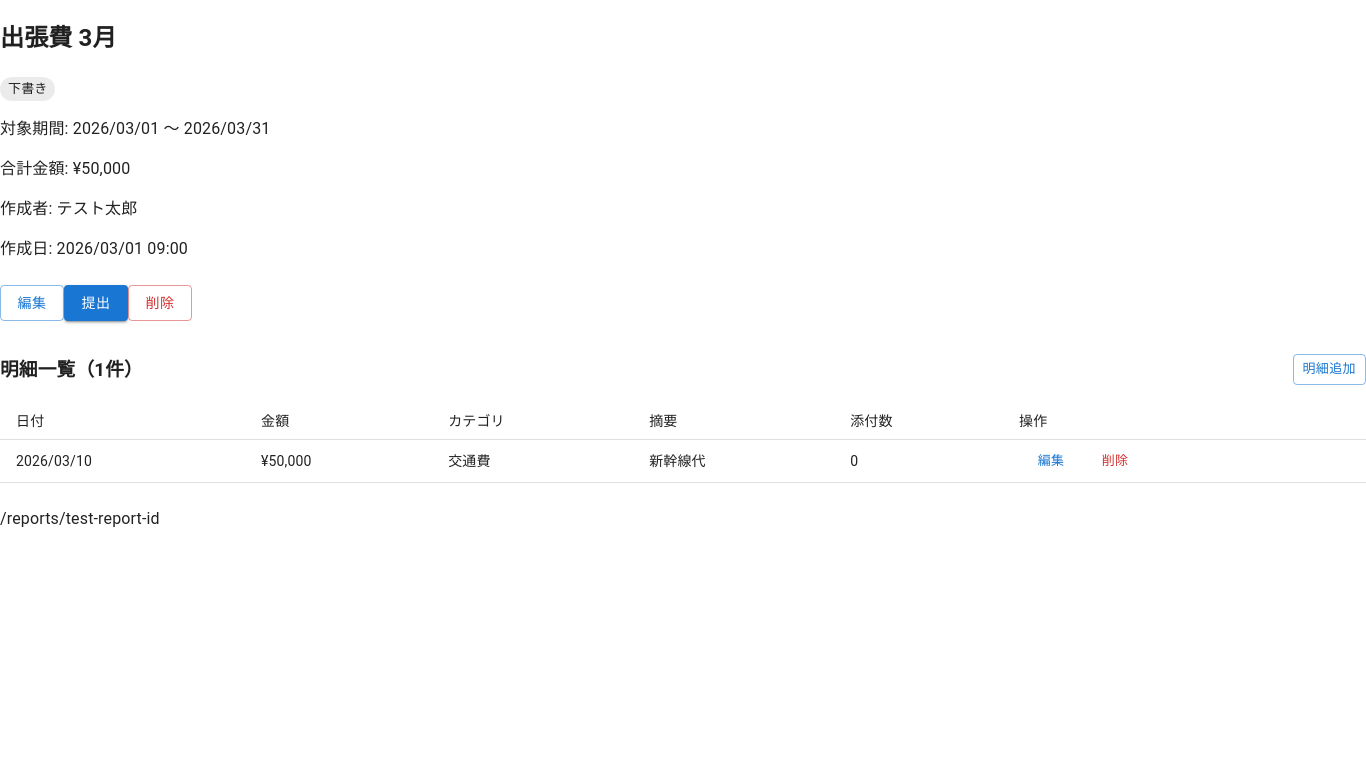
Test: ReportDetailPage › RPT-FE-090-C: 明細の編集ボタン押下で ItemSlidePanel が表示され、フォームに対象明細の値がプリフィルされる
Click the button "編集" in the row of "2026/03/10": (1051,461) [1019,446,1083,476]
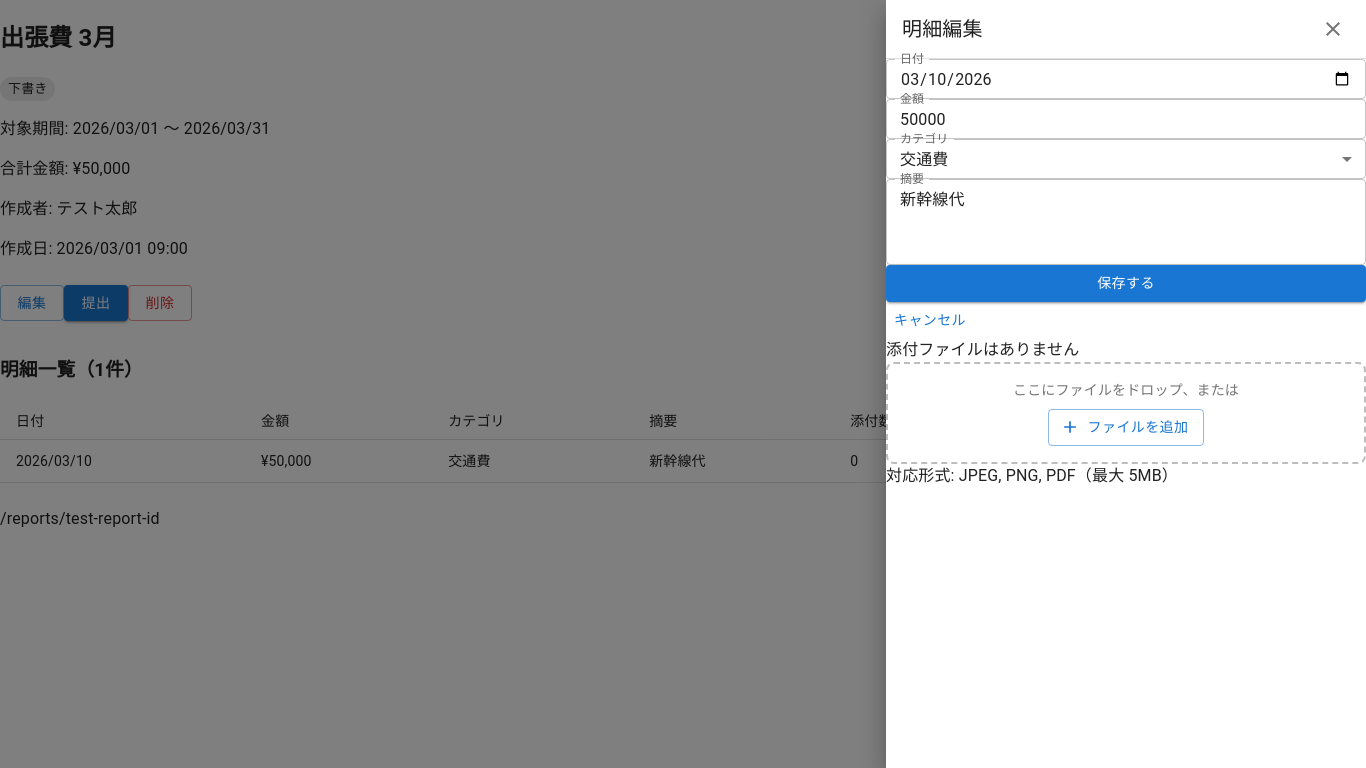
Check: the element with test id "item-slide-panel" is shown, box [886,0,1365,767]
Check: the date field showing "2026-03-10" is shown, box [886,59,1365,99]
Check: the number field showing "50000" is shown, box [886,99,1365,139]
